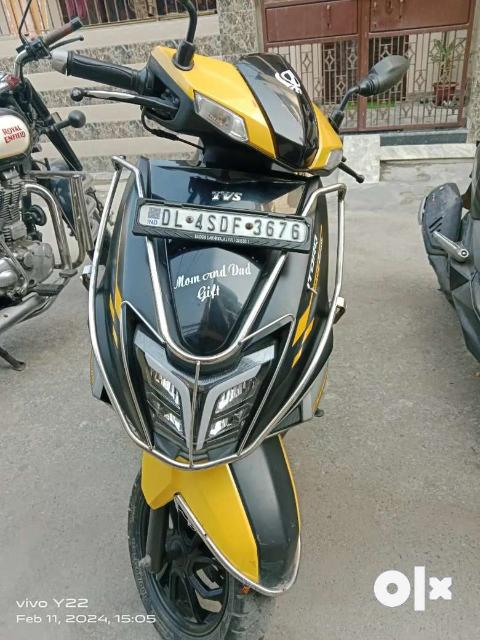Indian_Number_Plate: (135, 196, 311, 249)
